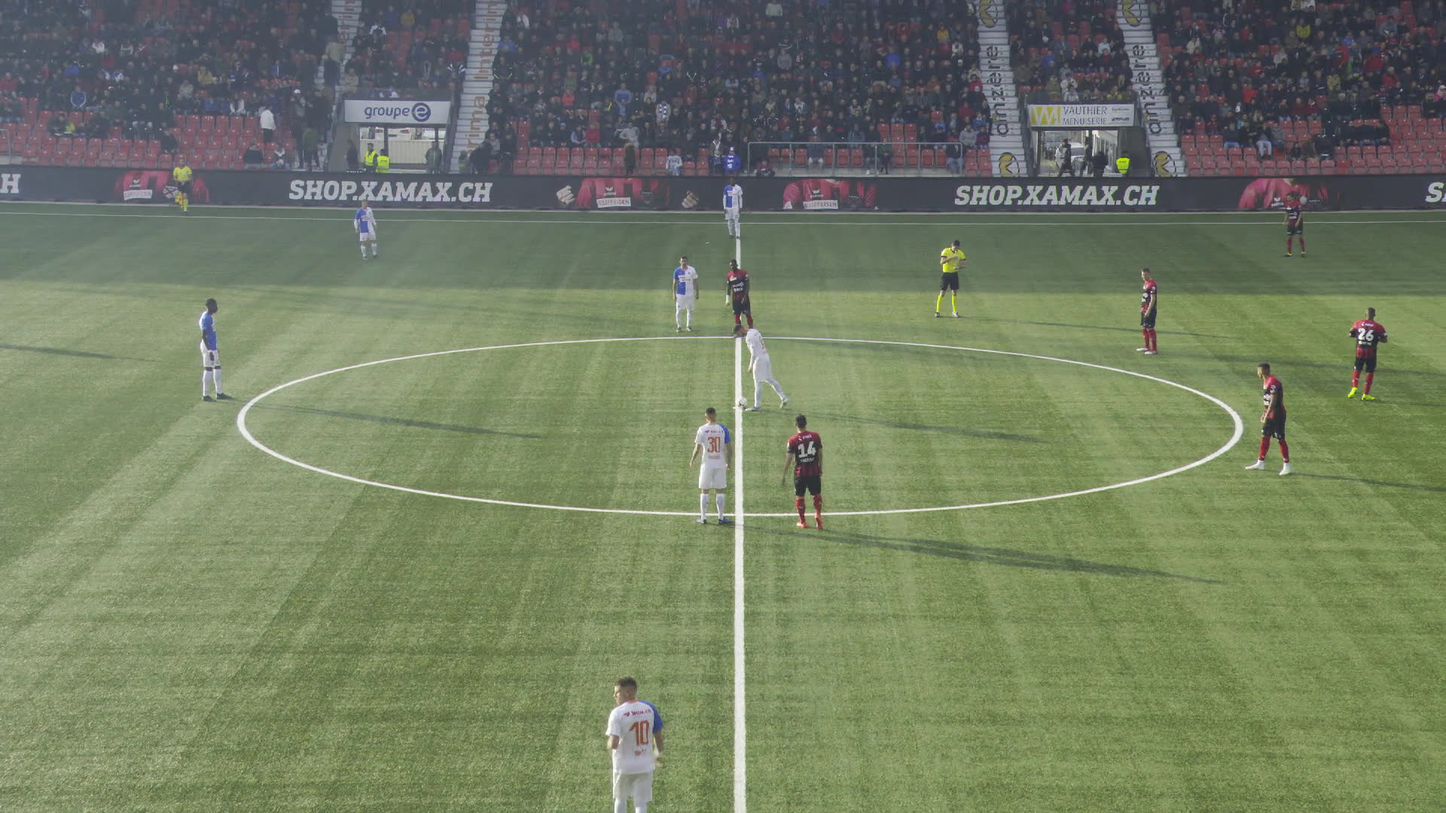ball: (736, 397, 749, 409)
player: (602, 675, 664, 811), (780, 412, 826, 528), (1245, 362, 1292, 475), (689, 406, 732, 523), (734, 323, 787, 410), (1347, 306, 1386, 400), (199, 297, 231, 400), (725, 259, 753, 337), (673, 255, 699, 331), (1136, 266, 1158, 353), (1283, 191, 1307, 256), (354, 198, 379, 260), (723, 175, 743, 239)
referee: (934, 239, 967, 315), (173, 157, 194, 212)
